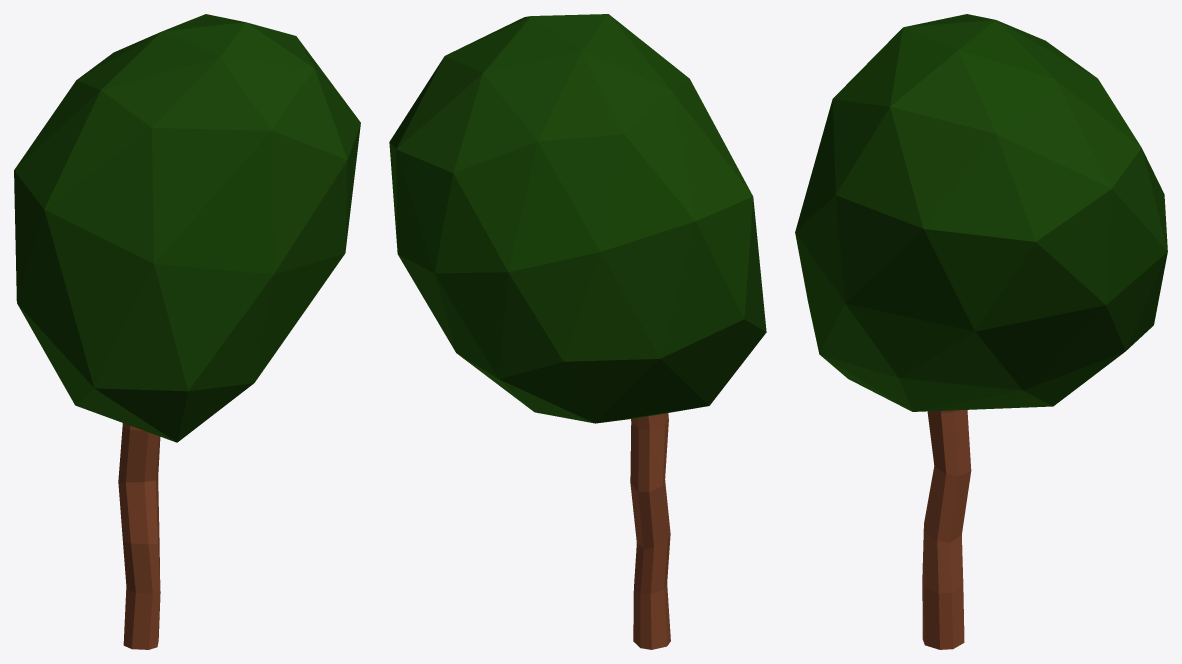
Rendered from Patio_Arbol.fbx.
3 renders of one model, left to right at view 1: azimuth 30°, elevation 25°; view 2: azimuth 150°, elevation 25°; view 3: azimuth 270°, elevation 25°, orthographic. The views are drawn at different scales.
Visible parts, largest first — view 1: Patio_Arbol; view 2: Patio_Arbol; view 3: Patio_Arbol.
Part boxes in pixels (box(x1,y1,x2,y2)): Patio_Arbol: box(14, 14, 360, 649); Patio_Arbol: box(389, 14, 766, 649); Patio_Arbol: box(795, 14, 1167, 649).
Size of the model in its own units: 1285 by 2243 by 1163.
